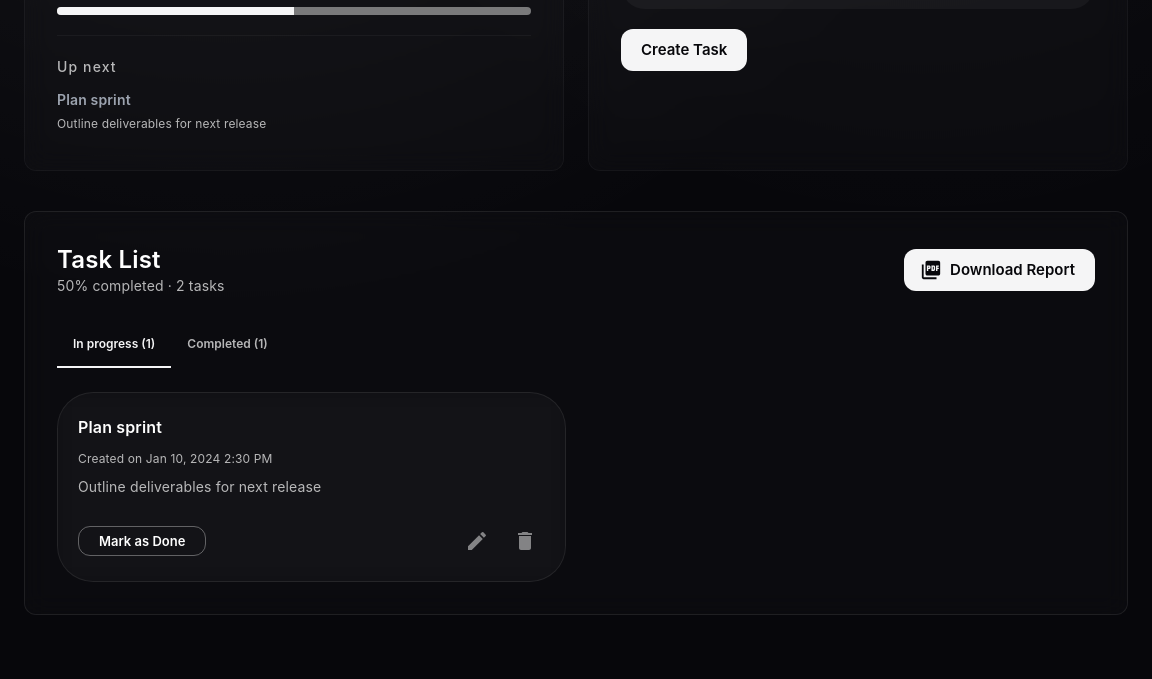
Test: App › confirms before deleting a task
(page scrolled)
Click the button named "delete plan sprint": (525, 541) [505, 521, 545, 561]
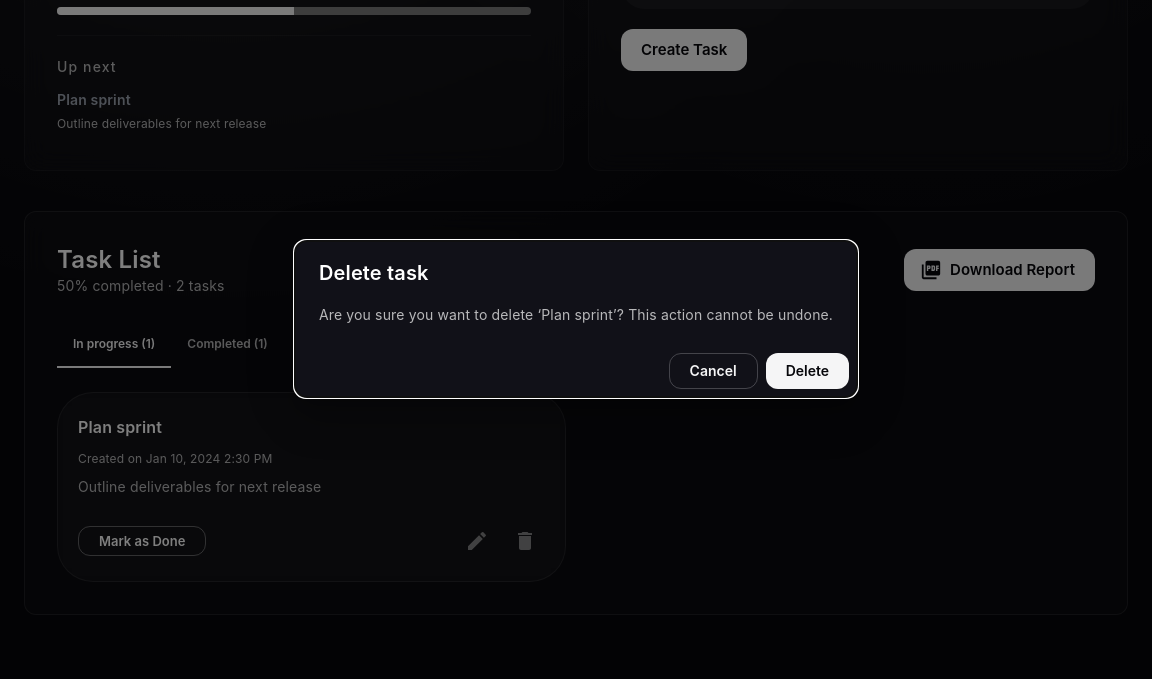
Check: the dialog "Delete task" is shown, box [294, 240, 858, 398]
Click the button "Delete": (807, 371) [766, 353, 849, 389]
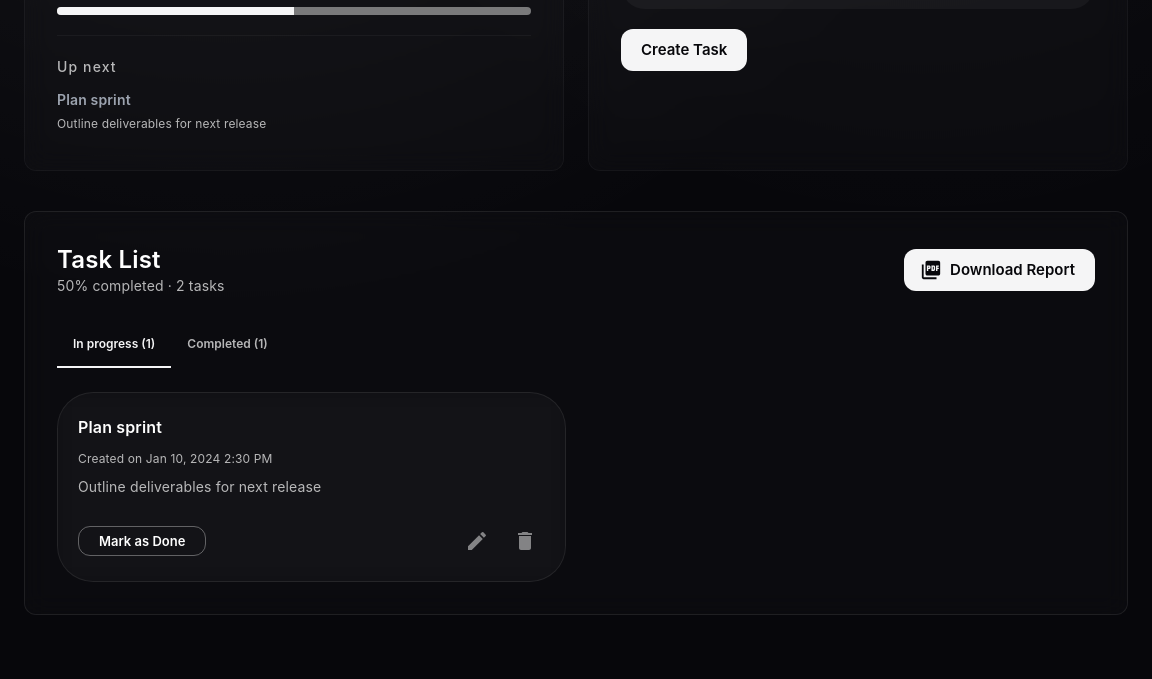
Check: the heading "Delete task" is gone
